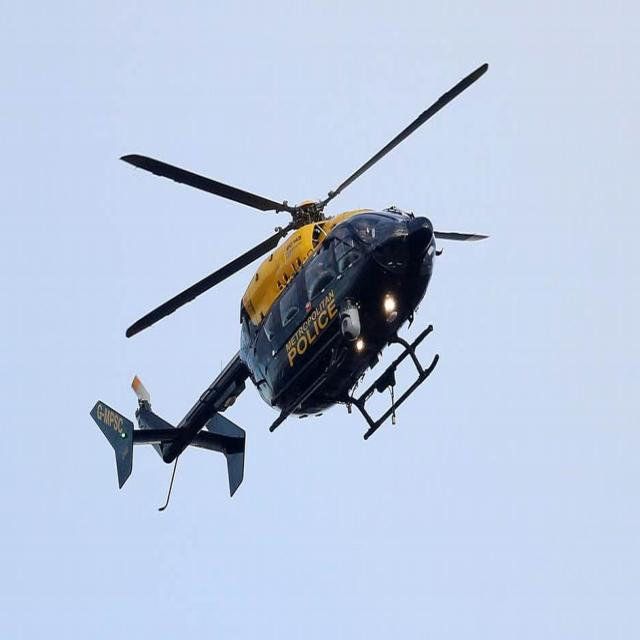helicopter: (90, 50, 494, 520)
